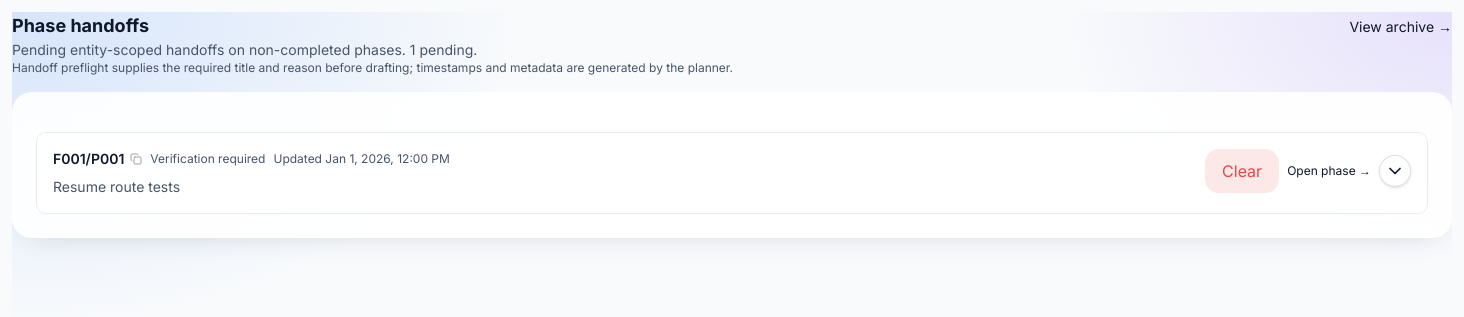
Test: handoff and requirement routes › surfaces a clear failure without discarding the pending handoff
Click the button "Clear". click: (1242,171)
box: [1205,149,1279,193]
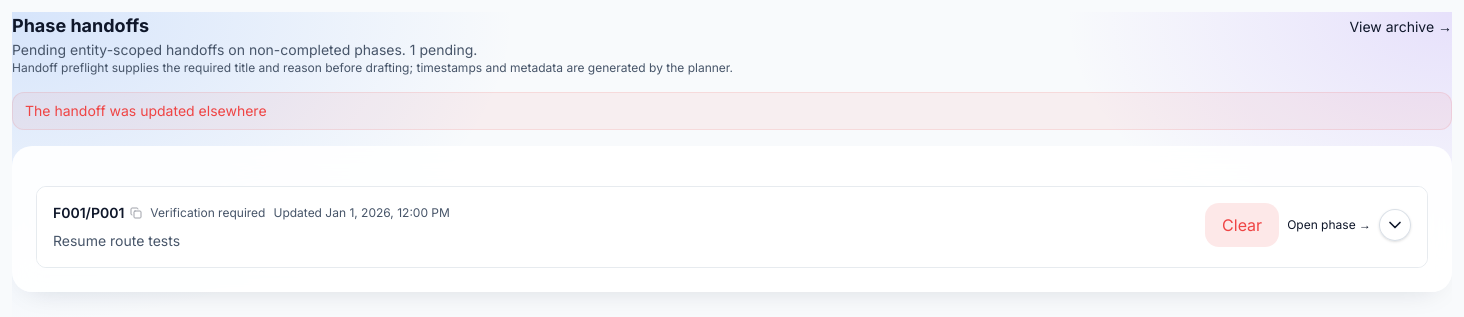
Result: the text "The handoff was updated elsewhere" is shown at [12,92,1452,130]
